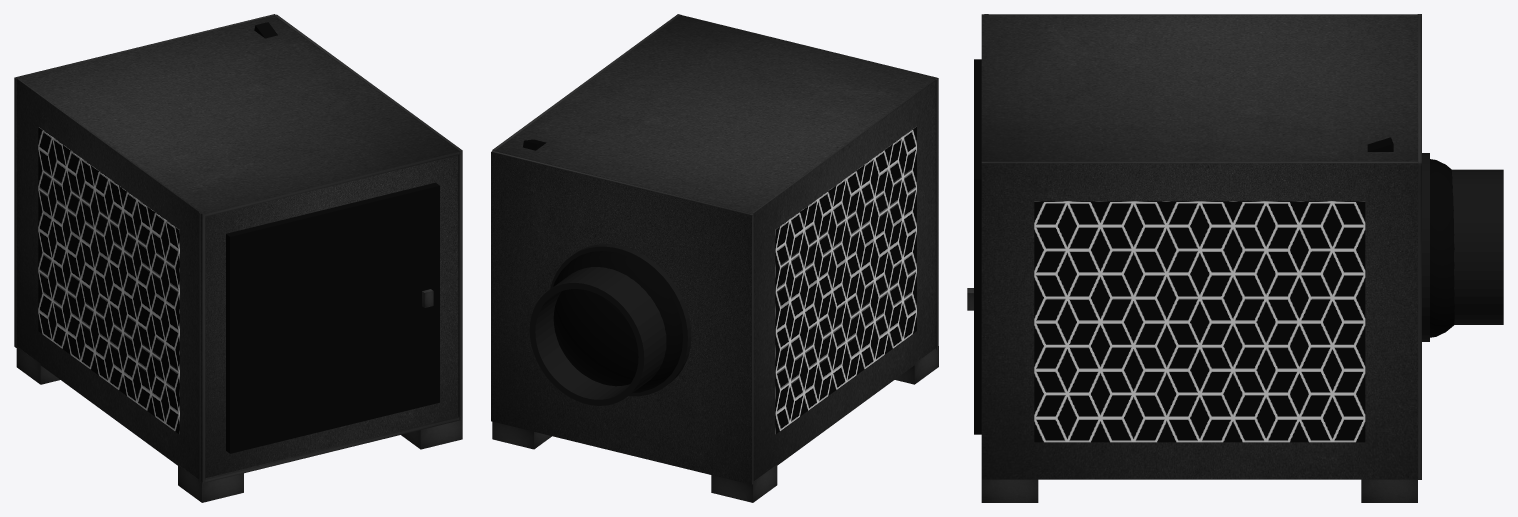
Rendered from GameObject.fbx.
3 renders of one model, left to right at view 1: azimuth 30°, elevation 25°; view 2: azimuth 150°, elevation 25°; view 3: azimuth 270°, elevation 25°, orthographic. The views are drawn at different scales.
Visible parts, largest first — view 1: Cube__3_, Cube__8_, Cube__7_, Cube, Cube__4_, Cube__1_, Cube__5_, rr__3_, Cube__2_, rr__2_, rr__1_; view 2: Cube__5_, Cube__3_, Cube__7_, Cube, Cylinder__1_, Pipe, Pipe__4_, rr__1_, Cube__4_, rr, Cube__1_, rr__3_; view 3: Cube__6_, Cube__3_, Cube__1_, Pipe, Cylinder__1_, Cube__8_, Cube__5_, Pipe__4_, rr__2_, rr, Cube.
Part boxes in pixels (x1=…): Cube__3_: x1=18, y1=15, x2=460, y2=216; Cube__8_: x1=226, y1=182, x2=439, y2=453; Cube__7_: x1=38, y1=127, x2=179, y2=434; Cube: x1=17, y1=78, x2=205, y2=483; Cube__4_: x1=198, y1=155, x2=458, y2=482; Cube__1_: x1=274, y1=14, x2=462, y2=420; Cube__5_: x1=14, y1=14, x2=275, y2=347; rr__3_: x1=178, y1=464, x2=243, y2=502; Cube__2_: x1=204, y1=416, x2=460, y2=482; rr__2_: x1=401, y1=419, x2=462, y2=449; rr__1_: x1=16, y1=346, x2=59, y2=384; Cube__5_: x1=491, y1=150, x2=753, y2=484; Cube__3_: x1=495, y1=15, x2=936, y2=213; Cube__7_: x1=775, y1=126, x2=916, y2=434; Cube: x1=752, y1=77, x2=938, y2=480; Cylinder__1_: x1=553, y1=251, x2=683, y2=393; Pipe: x1=529, y1=267, x2=666, y2=405; Pipe__4_: x1=550, y1=244, x2=691, y2=396; rr__1_: x1=711, y1=464, x2=777, y2=502; Cube__4_: x1=934, y1=78, x2=938, y2=349; rr: x1=492, y1=421, x2=551, y2=449; Cube__1_: x1=492, y1=14, x2=680, y2=150; rr__3_: x1=895, y1=346, x2=938, y2=384; Cube__6_: x1=1034, y1=201, x2=1365, y2=442; Cube__3_: x1=981, y1=15, x2=1417, y2=161; Cube__1_: x1=981, y1=161, x2=1417, y2=479; Pipe: x1=1451, y1=169, x2=1503, y2=324; Cylinder__1_: x1=1430, y1=159, x2=1454, y2=337; Cube__8_: x1=974, y1=59, x2=981, y2=434; Cube__5_: x1=1417, y1=14, x2=1421, y2=479; Pipe__4_: x1=1422, y1=153, x2=1429, y2=341; rr__2_: x1=981, y1=479, x2=1038, y2=502; rr: x1=1361, y1=479, x2=1417, y2=502; Cube: x1=981, y1=14, x2=1417, y2=15.
Bounding box in the file's own units: 81.58 × 87.66 × 123.
4 materials, 2 textured.
